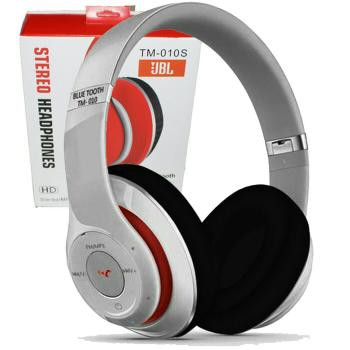Headphone: (58, 2, 316, 344)
